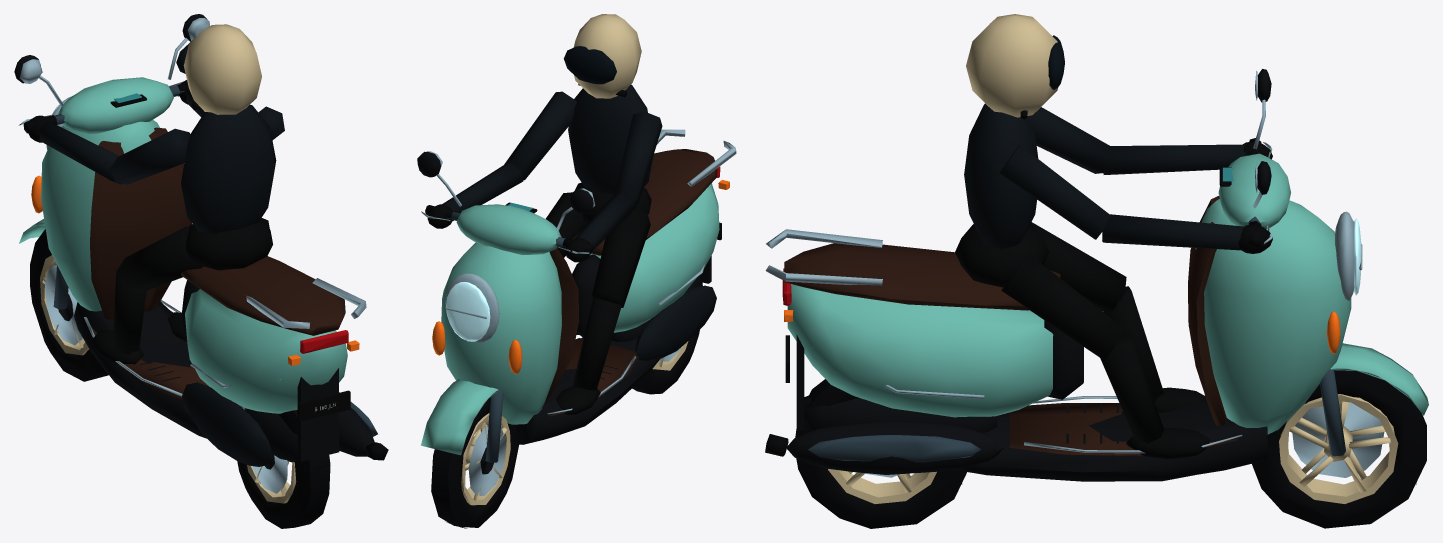
File: Body_LOD1.fbx
The picture shows the model from 3 angles, left to right: view 1: azimuth 30°, elevation 25°; view 2: azimuth 150°, elevation 25°; view 3: azimuth 270°, elevation 25°; orthographic projection. The views are drawn at different scales.
Parts seen in each view (by area): view 1: Body_Mesh, Helmeted_Traffic_Rider, Steering_Pivot_Mesh, Wheel_Rear_Mesh, Wheel_Front_Mesh, TailLights_Mesh; view 2: Body_Mesh, Helmeted_Traffic_Rider, Steering_Pivot_Mesh, Wheel_Front_Mesh, Headlights_Mesh, Wheel_Rear_Mesh, Indicator_Front_L_Lens; view 3: Body_Mesh, Helmeted_Traffic_Rider, Wheel_Front_Mesh, Steering_Pivot_Mesh, Wheel_Rear_Mesh, Headlights_Mesh.
Part boxes in pixels (x1=…): Body_Mesh: x1=41, y1=120, x2=388, y2=466; Helmeted_Traffic_Rider: x1=28, y1=24, x2=284, y2=364; Steering_Pivot_Mesh: x1=14, y1=14, x2=209, y2=309; Wheel_Rear_Mesh: x1=237, y1=410, x2=330, y2=528; Wheel_Front_Mesh: x1=30, y1=229, x2=108, y2=381; TailLights_Mesh: x1=300, y1=330, x2=348, y2=353; Body_Mesh: x1=441, y1=129, x2=736, y2=444; Helmeted_Traffic_Rider: x1=427, y1=14, x2=662, y2=414; Steering_Pivot_Mesh: x1=417, y1=151, x2=595, y2=462; Wheel_Front_Mesh: x1=431, y1=397, x2=518, y2=528; Headlights_Mesh: x1=445, y1=273, x2=499, y2=342; Wheel_Rear_Mesh: x1=632, y1=275, x2=702, y2=394; Indicator_Front_L_Lens: x1=508, y1=340, x2=522, y2=374; Body_Mesh: x1=765, y1=196, x2=1351, y2=481; Helmeted_Traffic_Rider: x1=955, y1=14, x2=1272, y2=458; Wheel_Front_Mesh: x1=1252, y1=370, x2=1426, y2=528; Steering_Pivot_Mesh: x1=1218, y1=69, x2=1428, y2=456; Wheel_Rear_Mesh: x1=795, y1=379, x2=966, y2=528; Headlights_Mesh: x1=1334, y1=211, x2=1362, y2=300.
Size of the model in its own units: 69.25 by 154 by 183.
